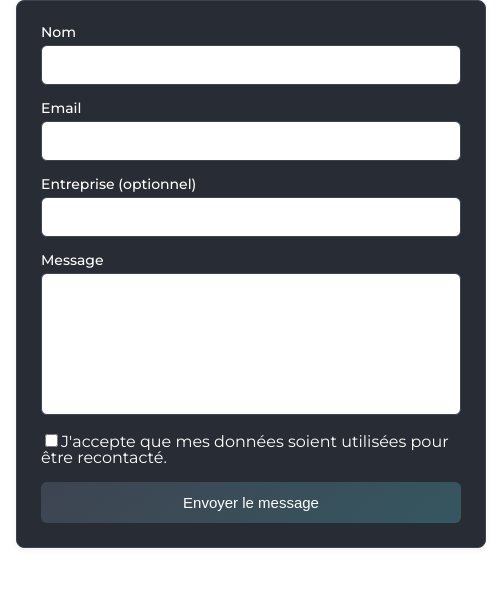
ContactForm - Jest full test suite › shows error message when fetch fails
Type "Valentin" into the field labelled "Nom" at {"x": 251, "y": 65}, box [41,45,461,85]
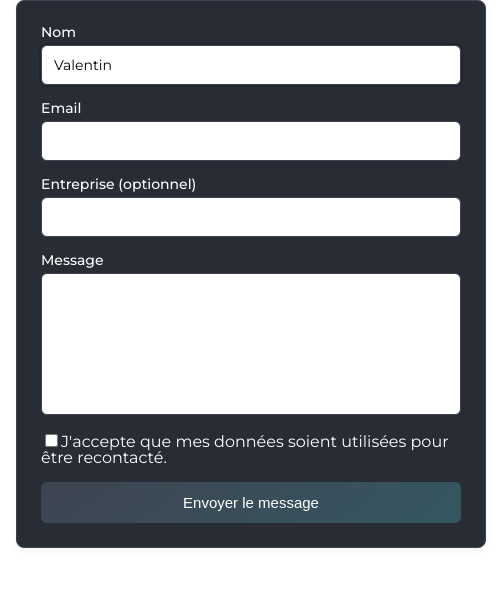
Type "test@example.com" into the field labelled "Email" at {"x": 251, "y": 141}, box [41,121,461,161]
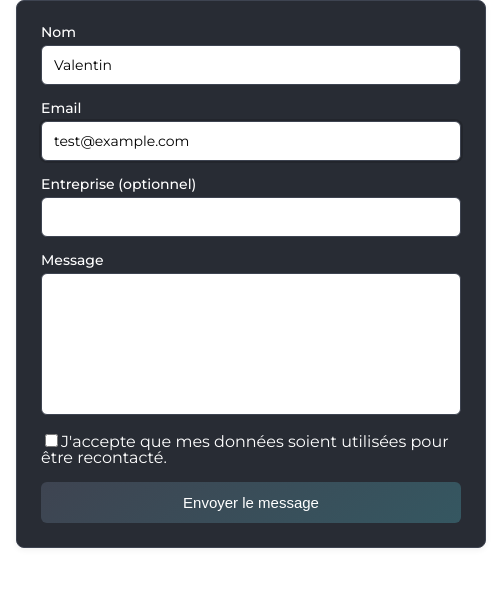
Type "Hello" into the text box labelled "Message" at {"x": 251, "y": 344}, box [41,273,461,415]
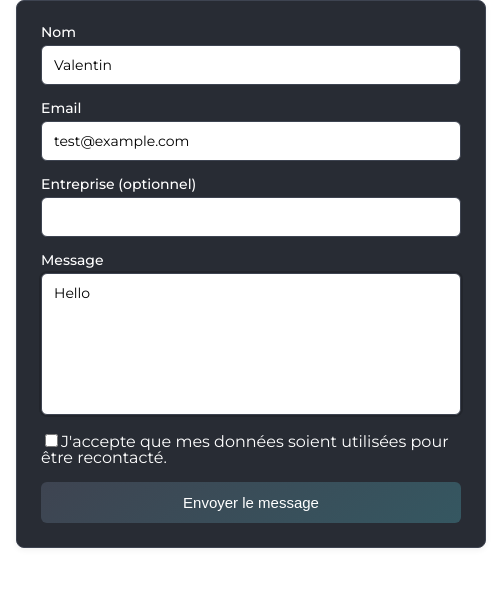
Click the checkbox named "gdpr consent" at {"x": 52, "y": 440}, box [45,434,58,447]
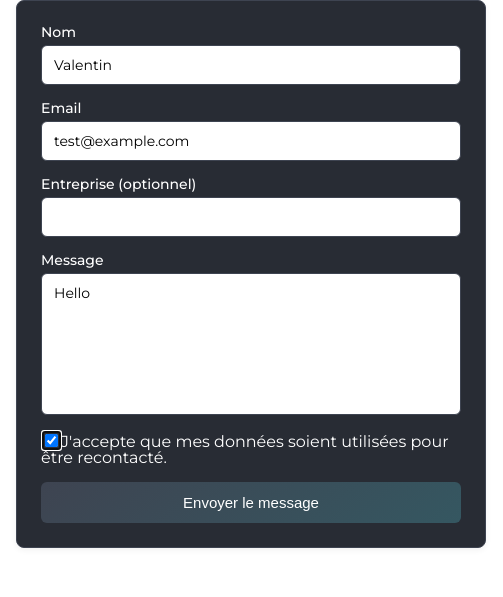
Click the button "Envoyer le message" at {"x": 251, "y": 502}, box [41,482,461,523]
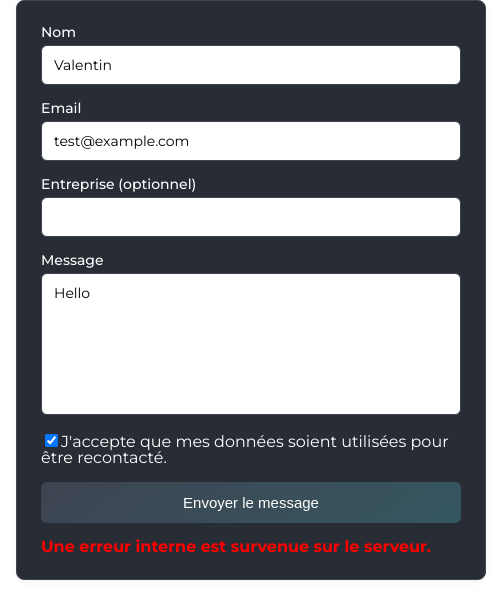
Now the text "Une erreur interne est survenue sur le serveur." is shown, box [41,539,461,555]
